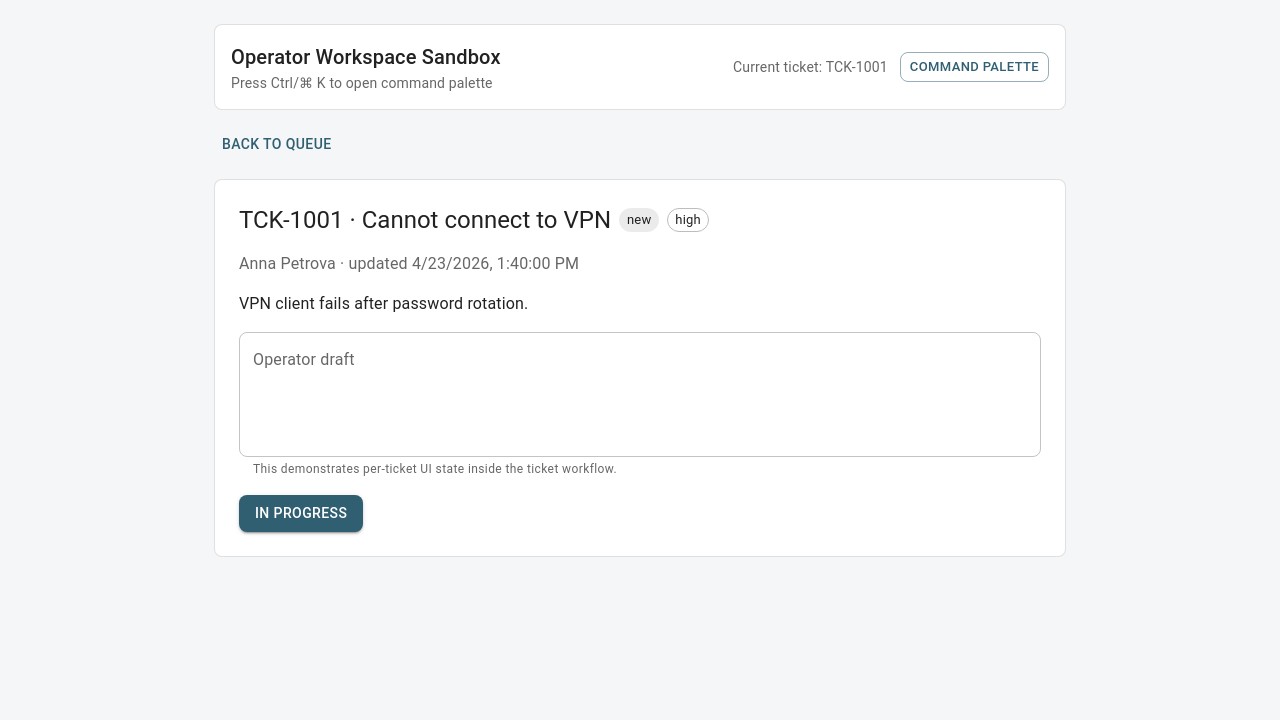
Test: Command palette integration › opens palette and marks ticket as reviewed
This screenshot has width=1280, height=720.
Expected: the heading "TCK-1001 · Cannot connect to VPN" is shown, [239,204,611,236]
// Открываем палитру Ctrl+K (Meta+K)
Step 1. Type keys "{Meta>}k"
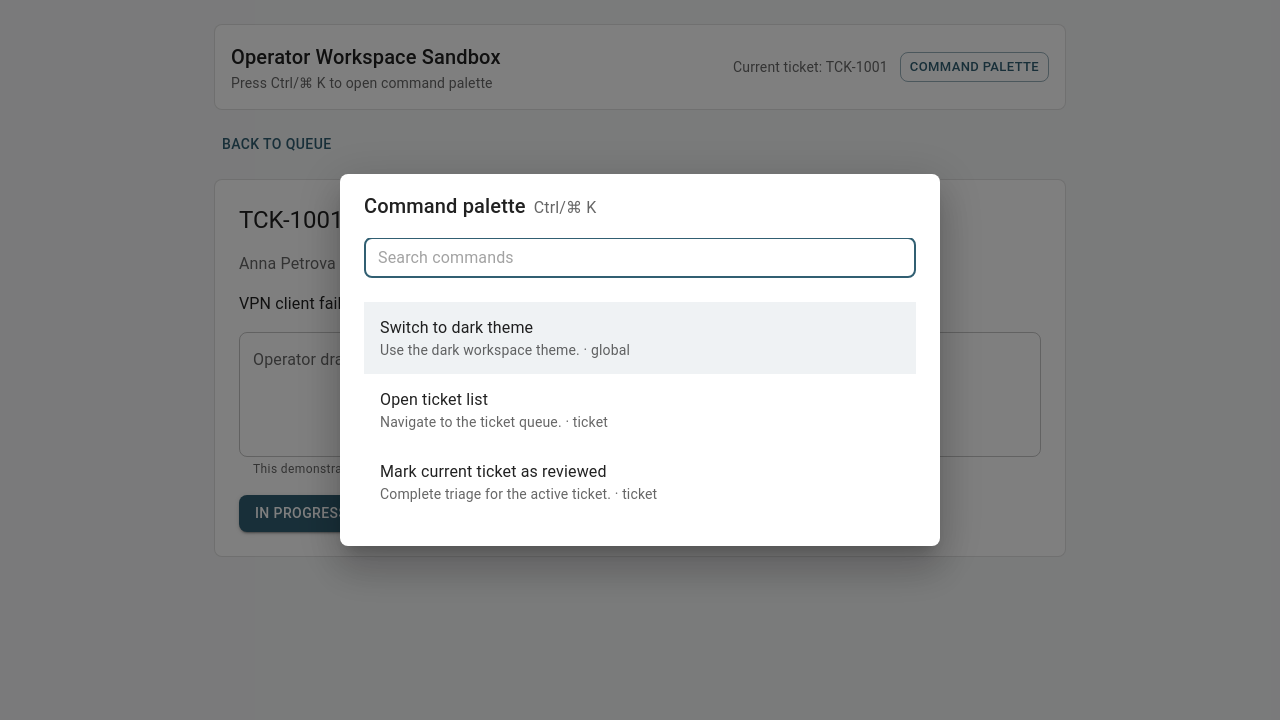
Expected: the dialog "Command palette" is shown, [340,174,940,546]
// Активируем команду
Step 2. Click the text "Mark current ticket as reviewed" → (493, 472), box [380,462,607,481]
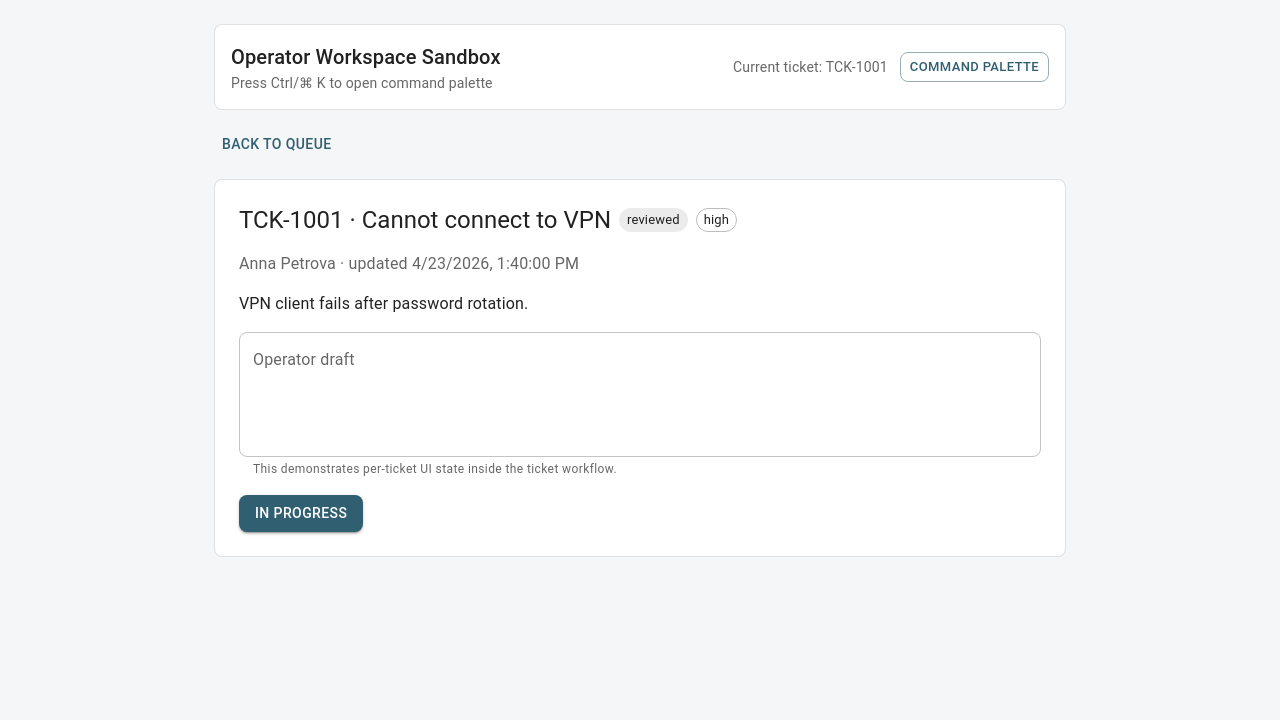
Expected: the text "reviewed" is shown, [627,212,680,227]
